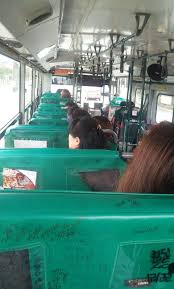seat: (5, 163, 104, 287)
